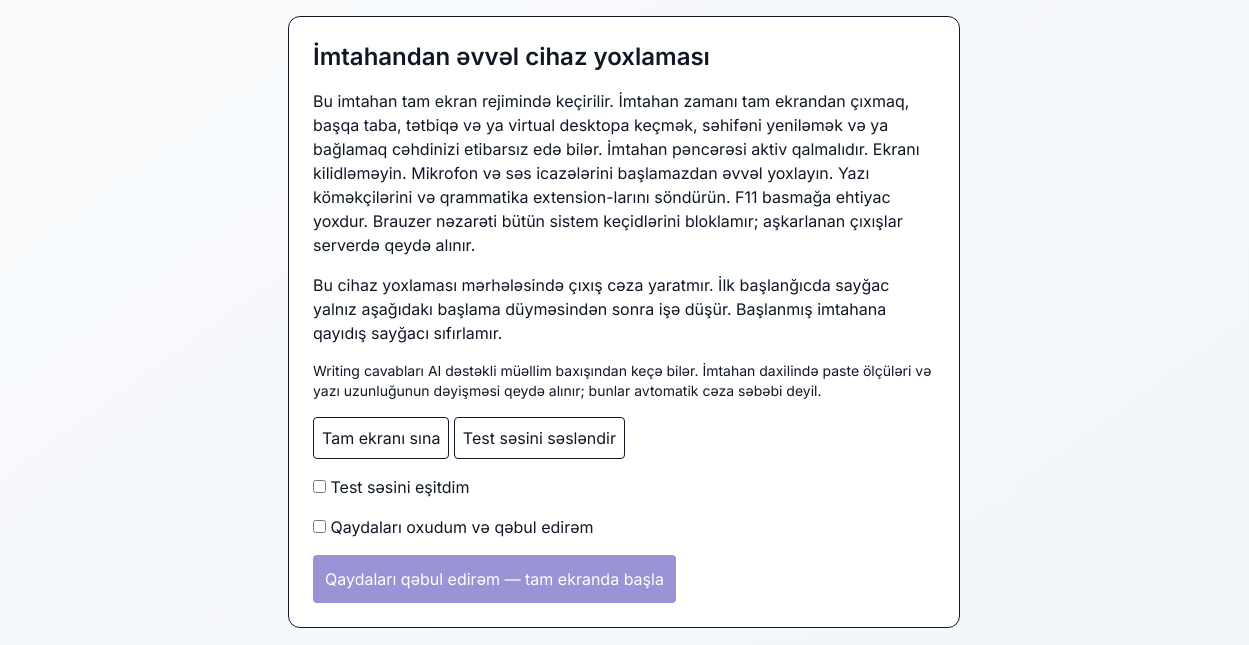
it: offline fullscreen exit remains blocked and retries its persisted event
Click the button "Tam ekranı sına" at (381, 438), box [313,417,449,459]
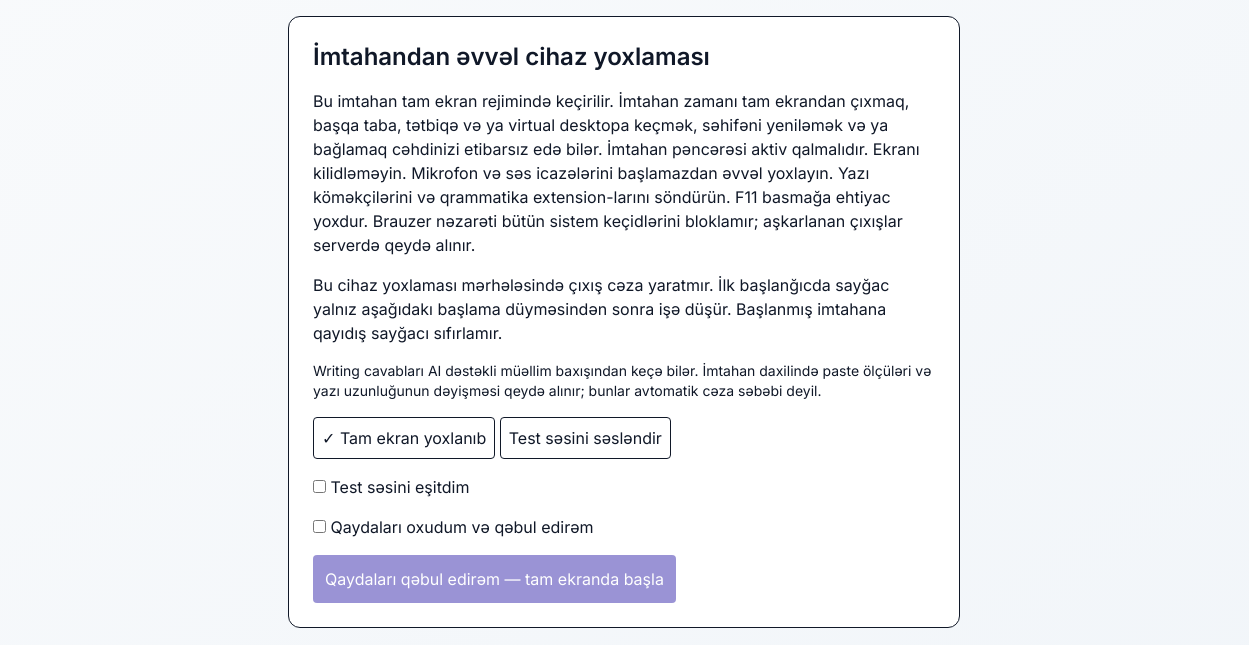
Click the checkbox labelled "Test səsini eşitdim" at (320, 486), box [313,480,326,493]
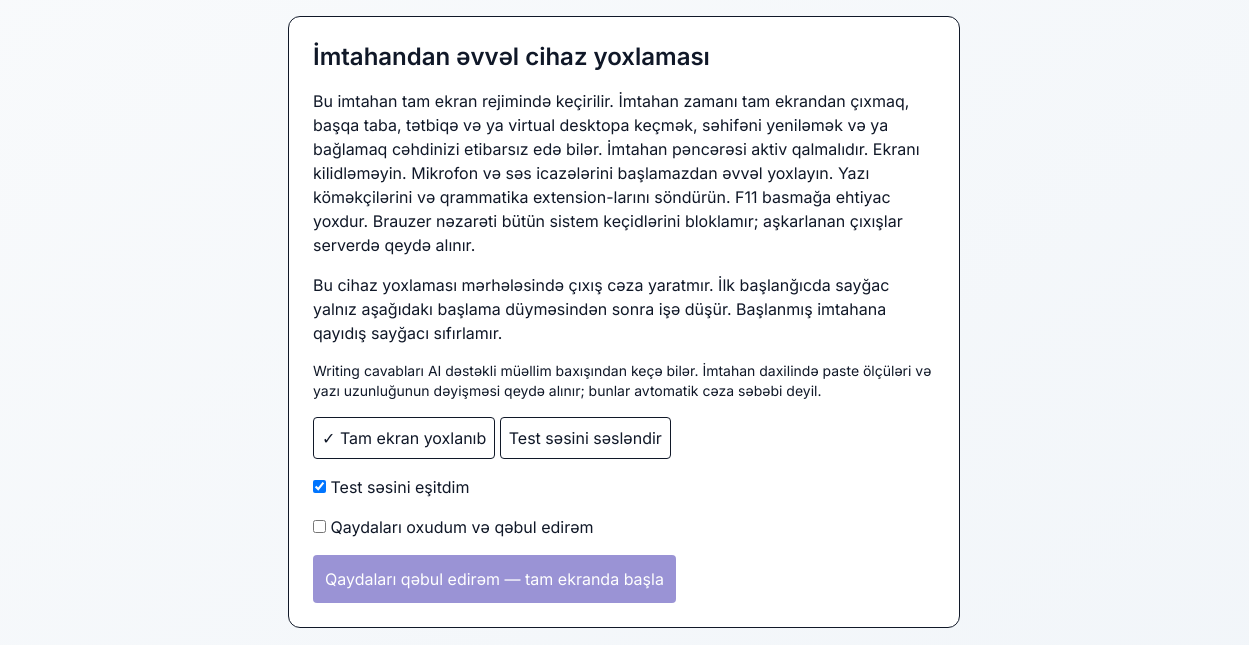
Click the checkbox labelled "Qaydaları oxudum və qəbul edirəm" at (320, 526), box [313,520,326,533]
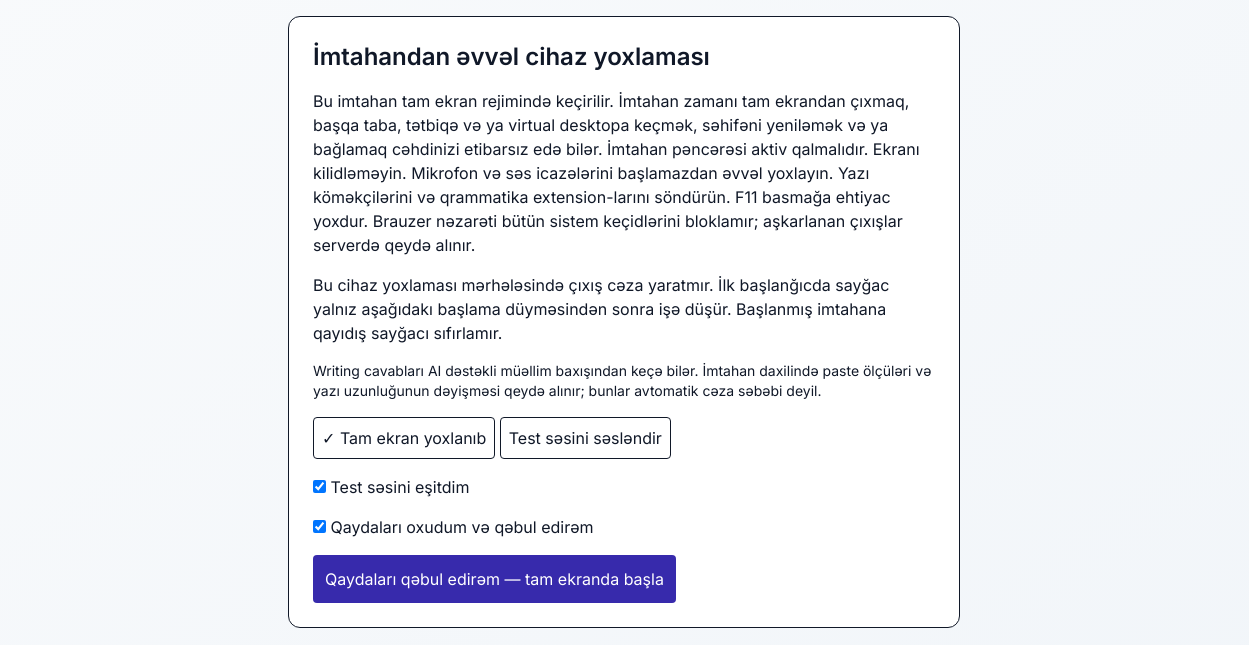
Click the button "Qaydaları qəbul edirəm — tam ekranda başla" at (494, 579), box [313,555,676,603]
Wait 5400 ms
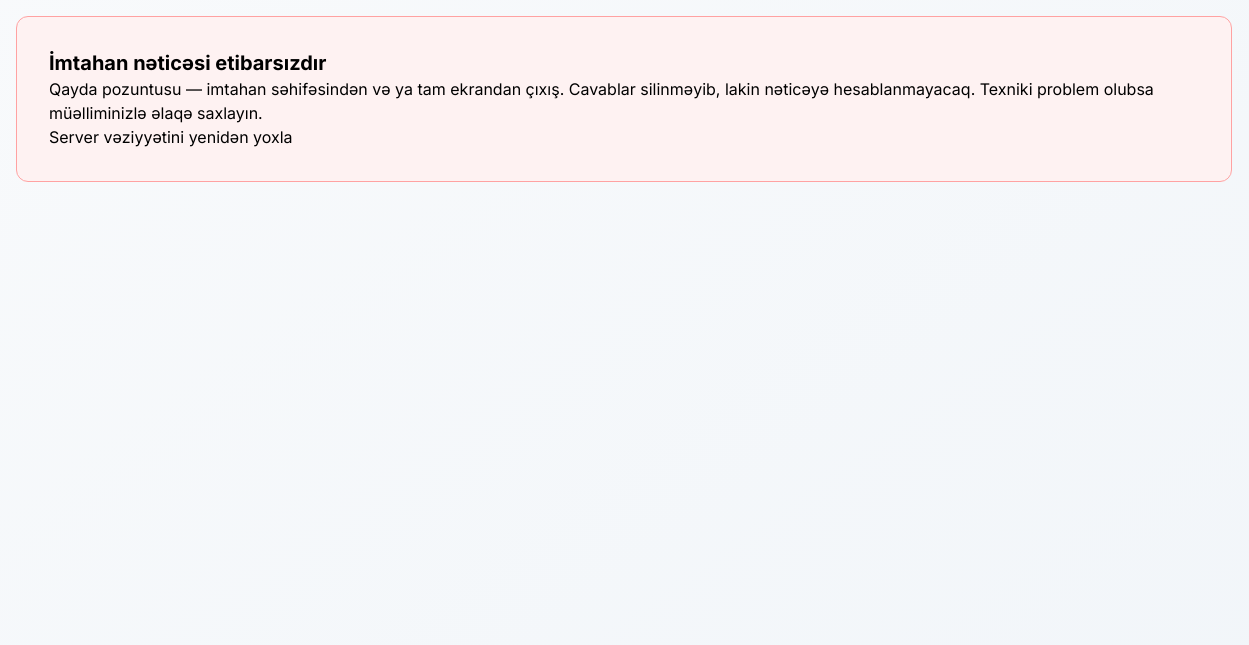
expect the text "İmtahan nəticəsi etibarsızdır" is shown: met, box [49,51,326,75]
